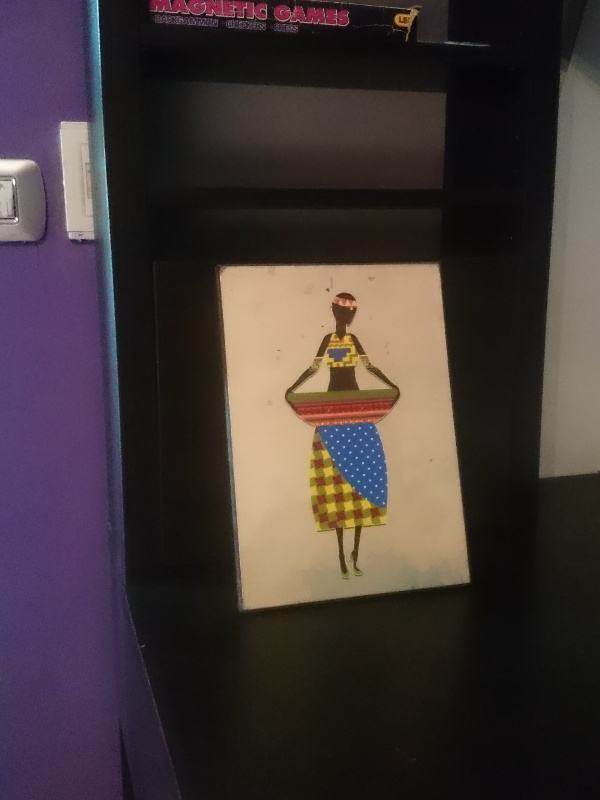my image: (221, 265, 465, 606)
